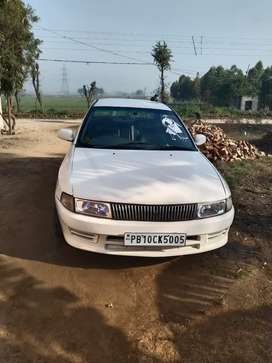PB10CK5005: (124, 232, 185, 246)
